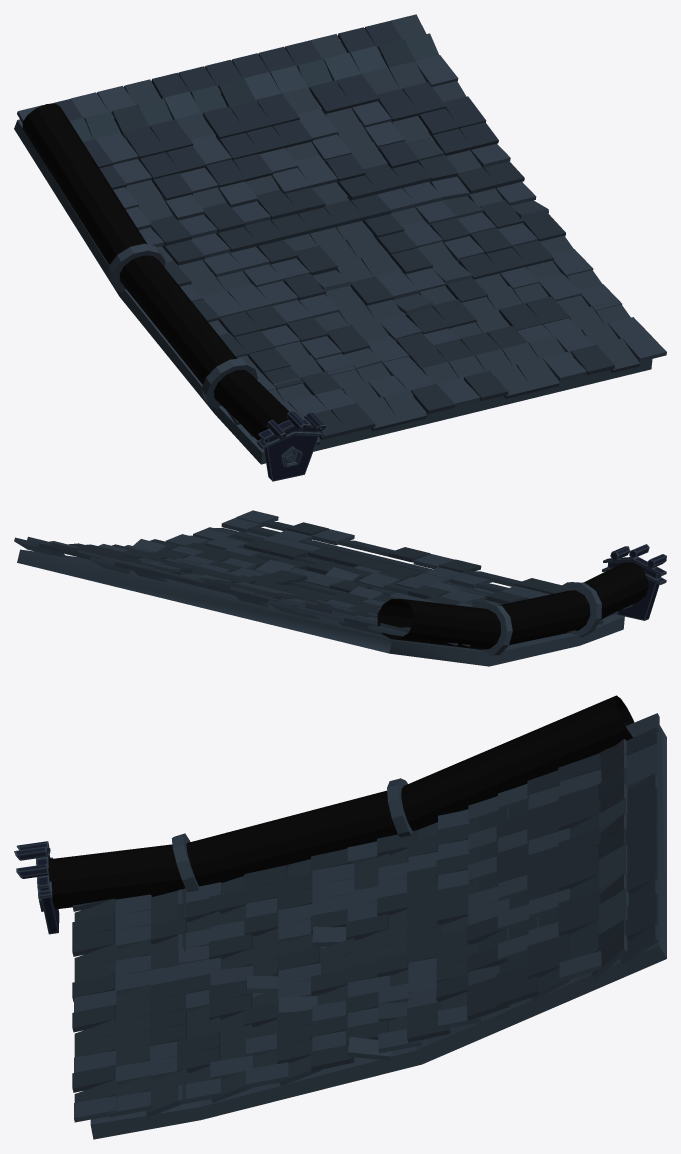
File: Roof_Tile06_JP.fbx
3 renders of one model, top to bottom at view 1: azimuth 30°, elevation 25°; view 2: azimuth 150°, elevation 25°; view 3: azimuth 270°, elevation 25°, orthographic. The views are drawn at different scales.
Parts seen in each view (by area): view 1: Roof_Tile06_JP_LOD0; view 2: Roof_Tile06_JP_LOD0; view 3: Roof_Tile06_JP_LOD0.
Part boxes in pixels (x1=…): Roof_Tile06_JP_LOD0: x1=14, y1=14, x2=666, y2=481; Roof_Tile06_JP_LOD0: x1=14, y1=510, x2=666, y2=666; Roof_Tile06_JP_LOD0: x1=14, y1=695, x2=666, y2=1139.
Size of what is drawn, in the model's own units: 682 by 304 by 790.
